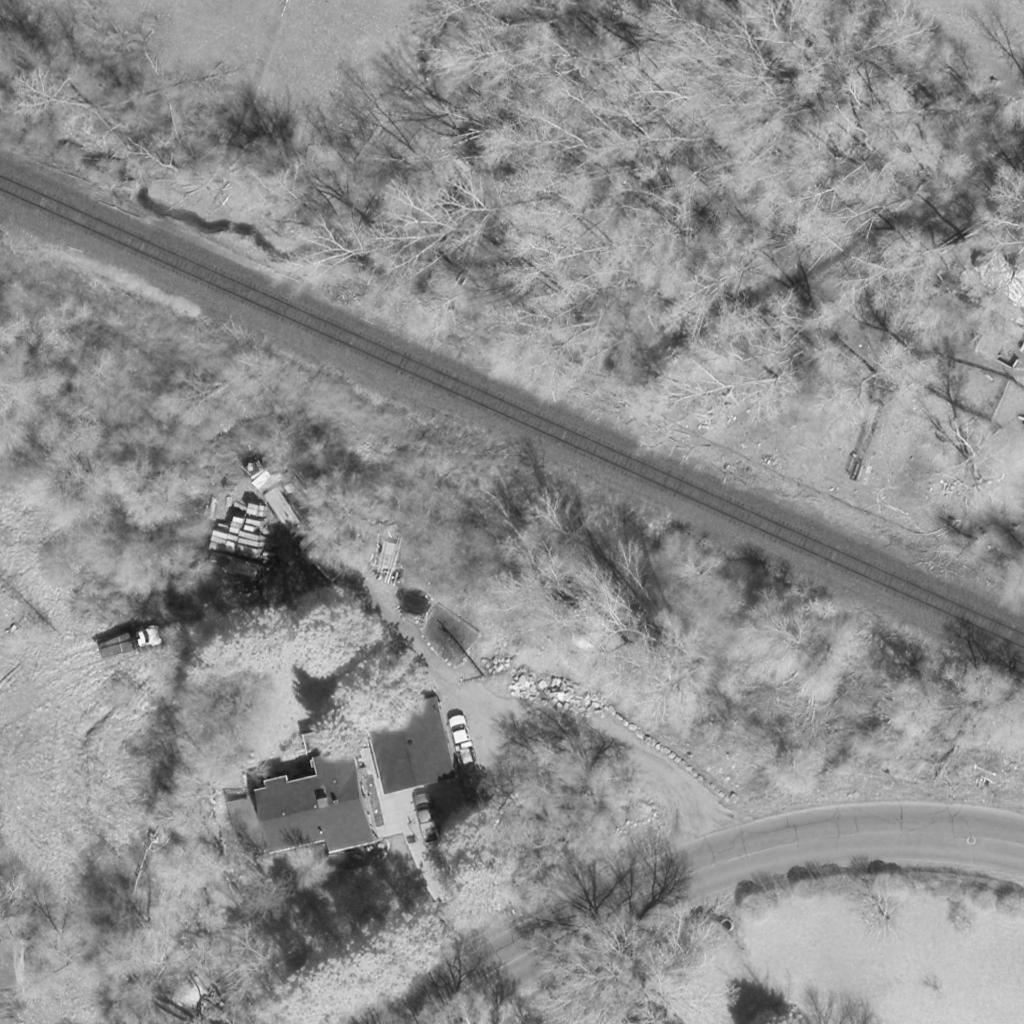vehicle: (94, 626, 164, 662), (446, 714, 480, 764), (413, 791, 441, 845)
